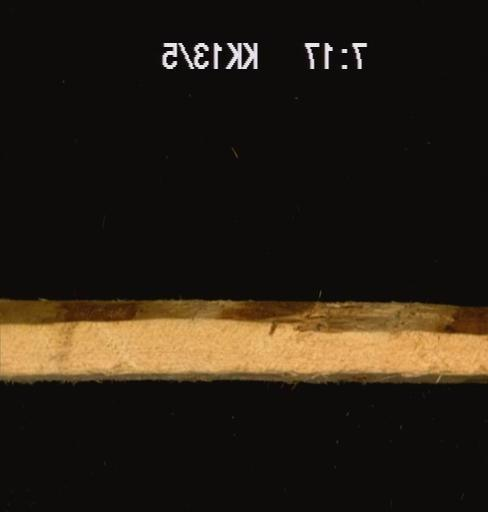wave: (0, 294, 485, 338), (1, 362, 486, 390)
